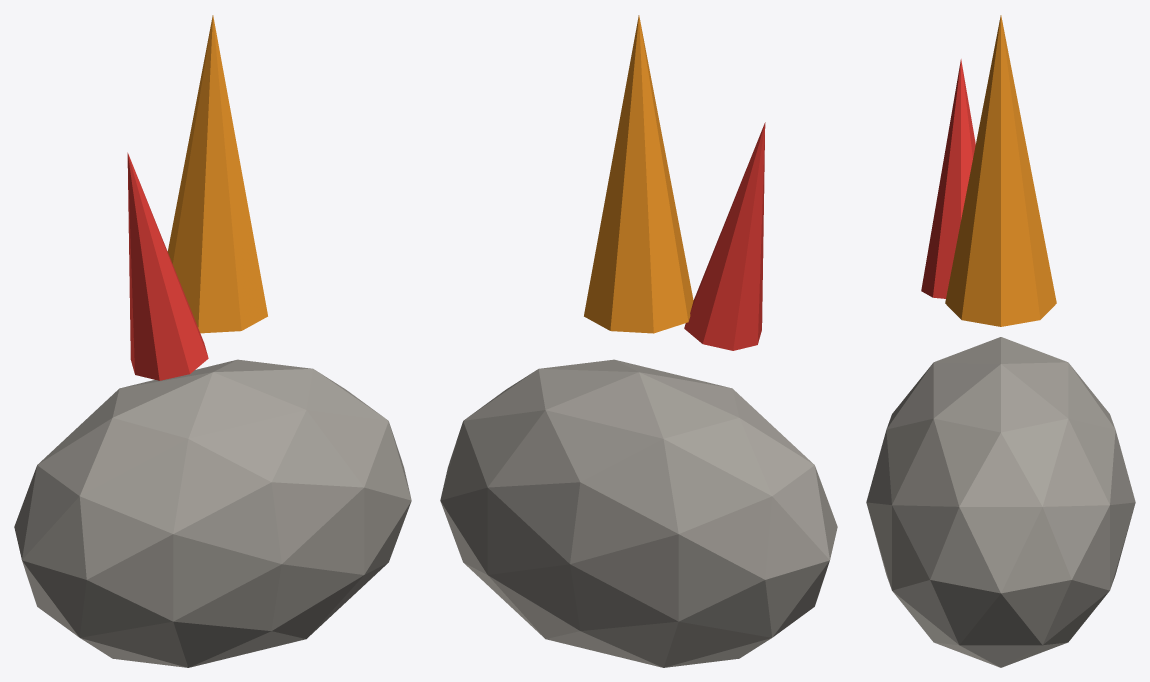
File: meteor_projectile.glb
3 renders of one model, left to right at view 1: azimuth 30°, elevation 25°; view 2: azimuth 150°, elevation 25°; view 3: azimuth 270°, elevation 25°, orthographic. The views are drawn at different scales.
Parts seen in each view (by area): view 1: meteor, trailA, trailB; view 2: meteor, trailA, trailB; view 3: meteor, trailA, trailB.
Boxes of the visible parts, <box> form: meteor: <box>14,359,411,667</box>; trailA: <box>167,15,267,333</box>; trailB: <box>127,152,208,380</box>; meteor: <box>440,359,837,667</box>; trailA: <box>584,15,693,333</box>; trailB: <box>684,122,765,350</box>; meteor: <box>866,337,1135,667</box>; trailA: <box>945,15,1056,326</box>; trailB: <box>921,59,975,298</box>.
Bounding box in the file's own units: 1.08 × 1.73 × 0.675.
